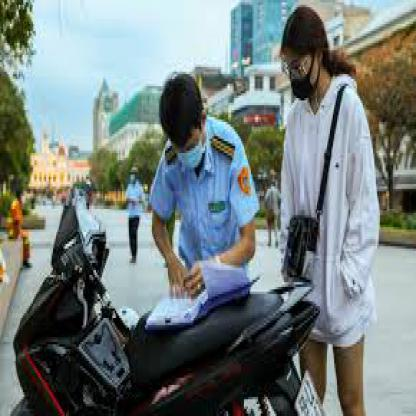Wearing_Mask: (166, 103, 212, 182), (282, 31, 326, 108)
